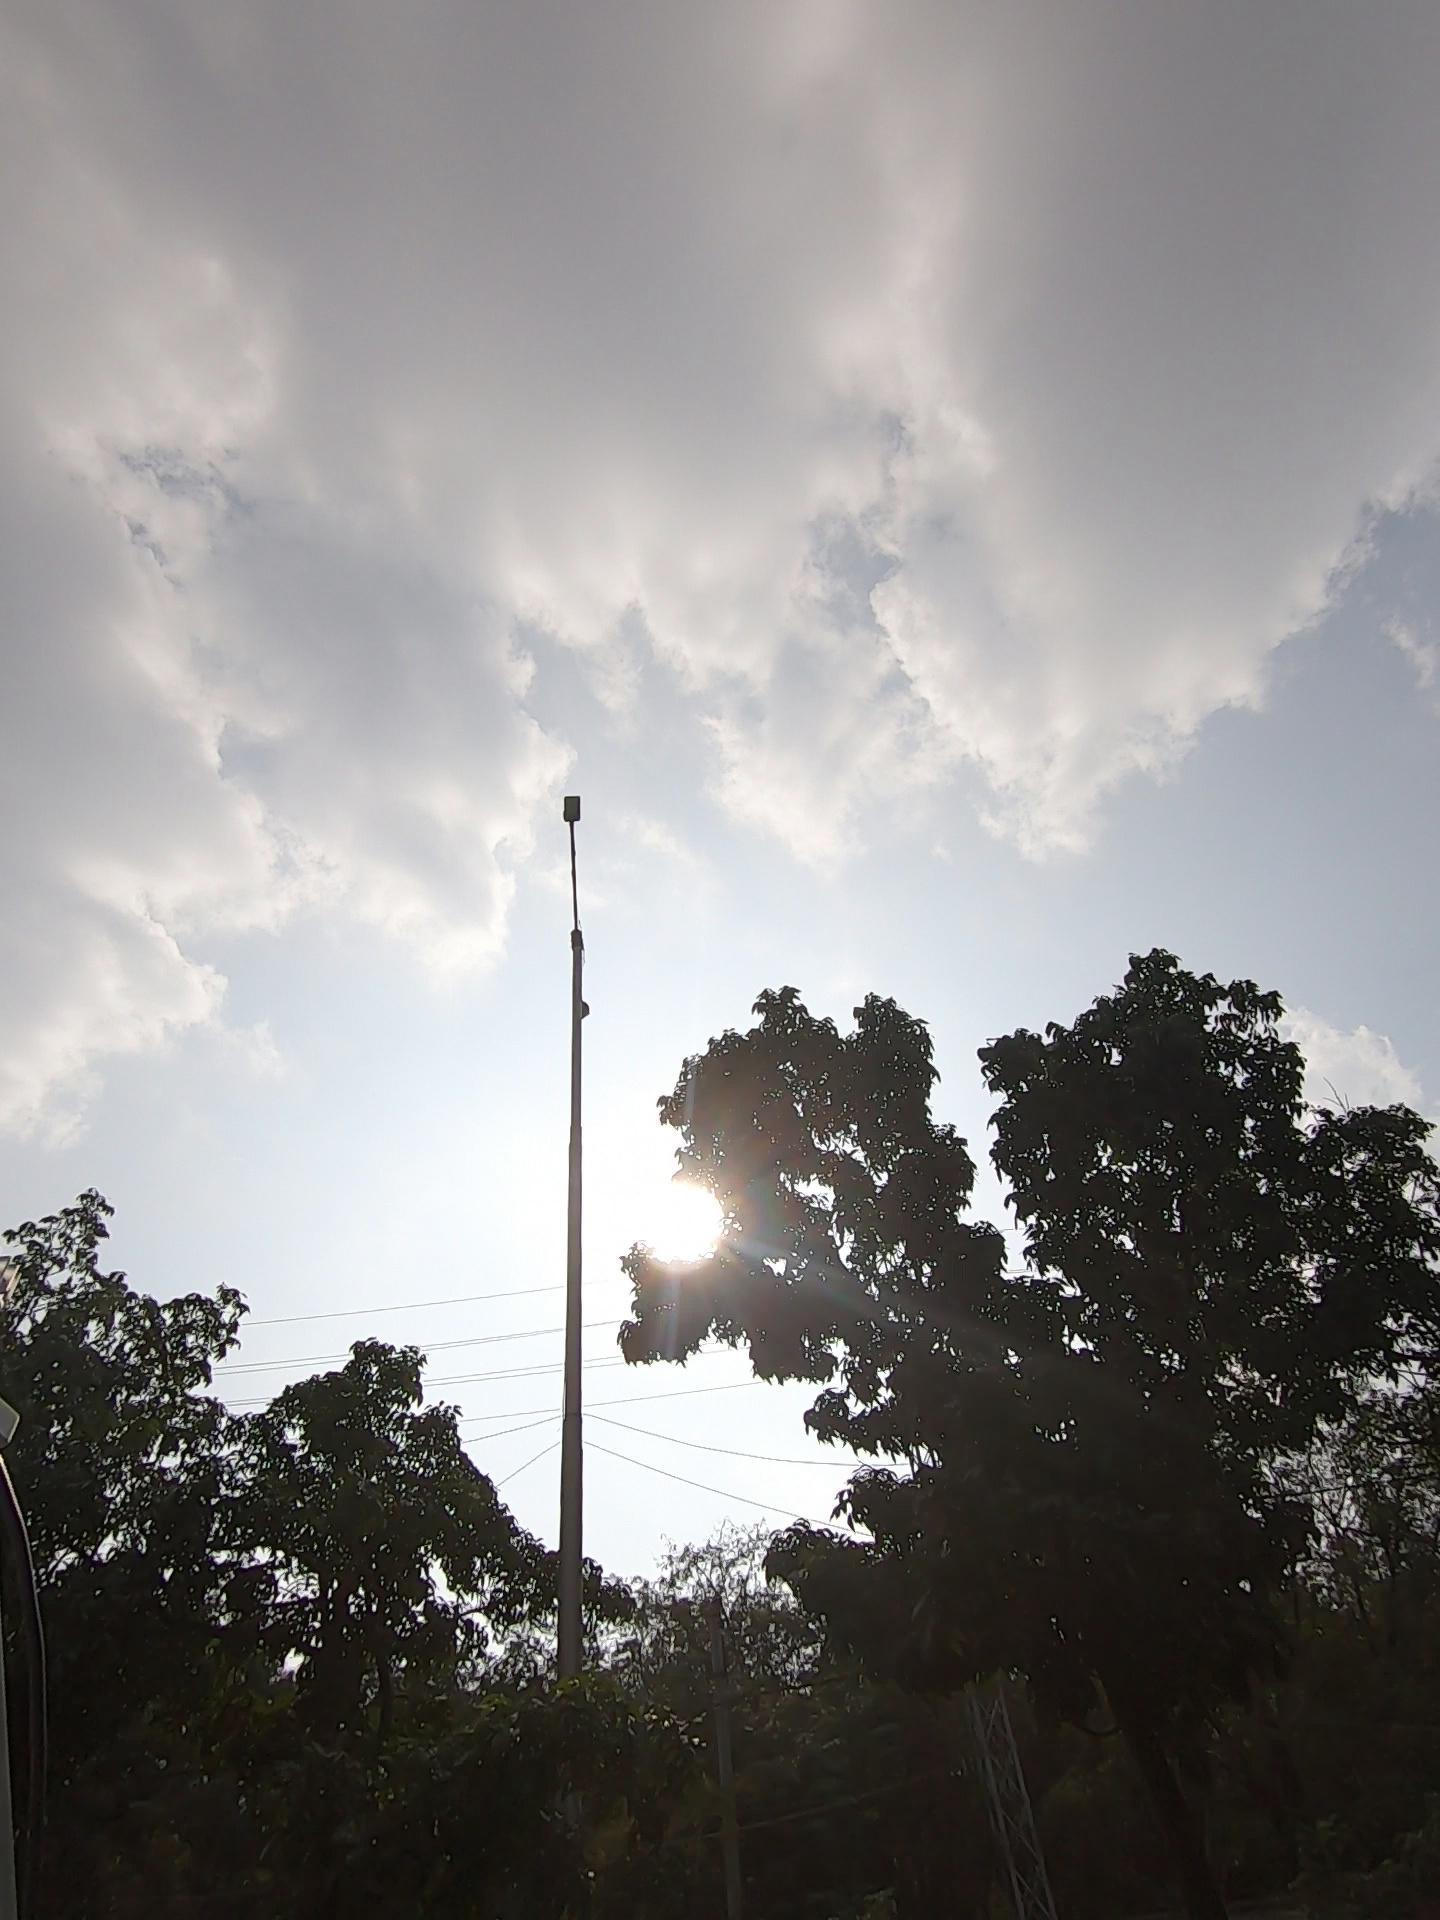off: (501, 786, 688, 1123)
